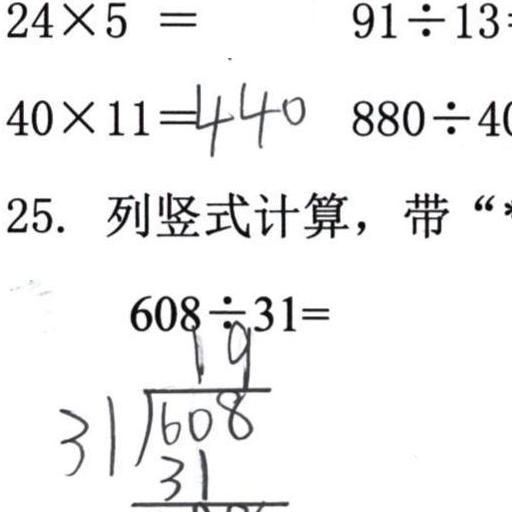ans: (188, 75, 306, 155)
